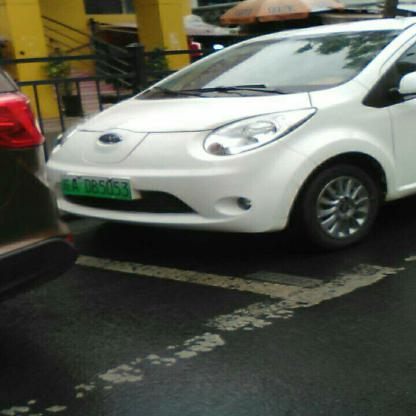lp: (58, 174, 132, 200)
